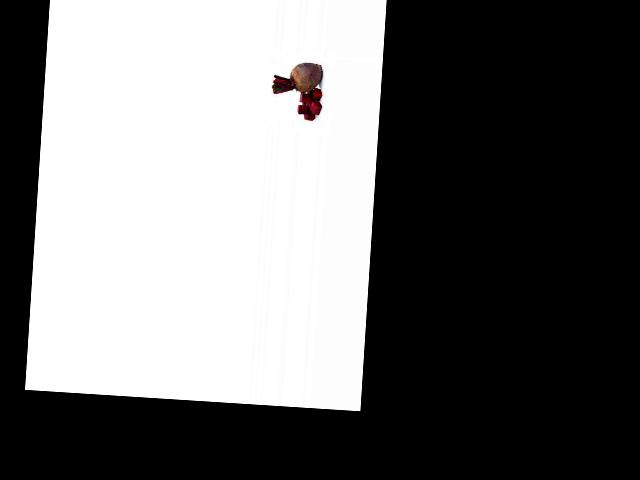beet: (272, 60, 323, 97)
